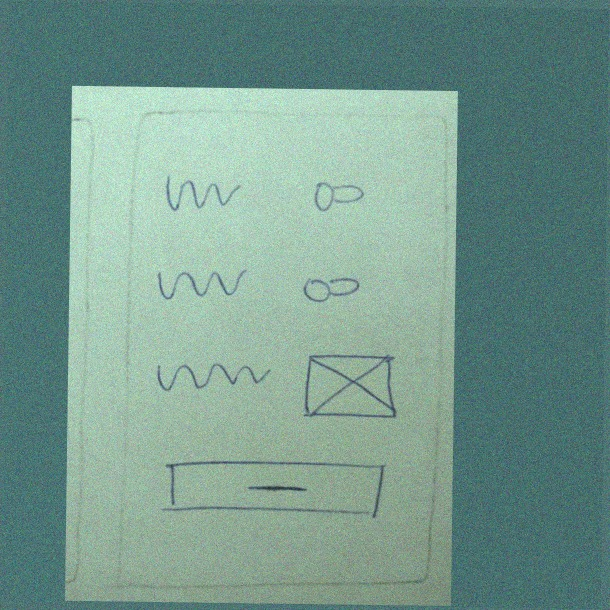button: (152, 453, 393, 526)
image: (295, 347, 405, 425)
switch: (294, 260, 368, 309), (304, 171, 372, 219)
text: (147, 351, 277, 401), (155, 165, 248, 217), (145, 260, 254, 303)
